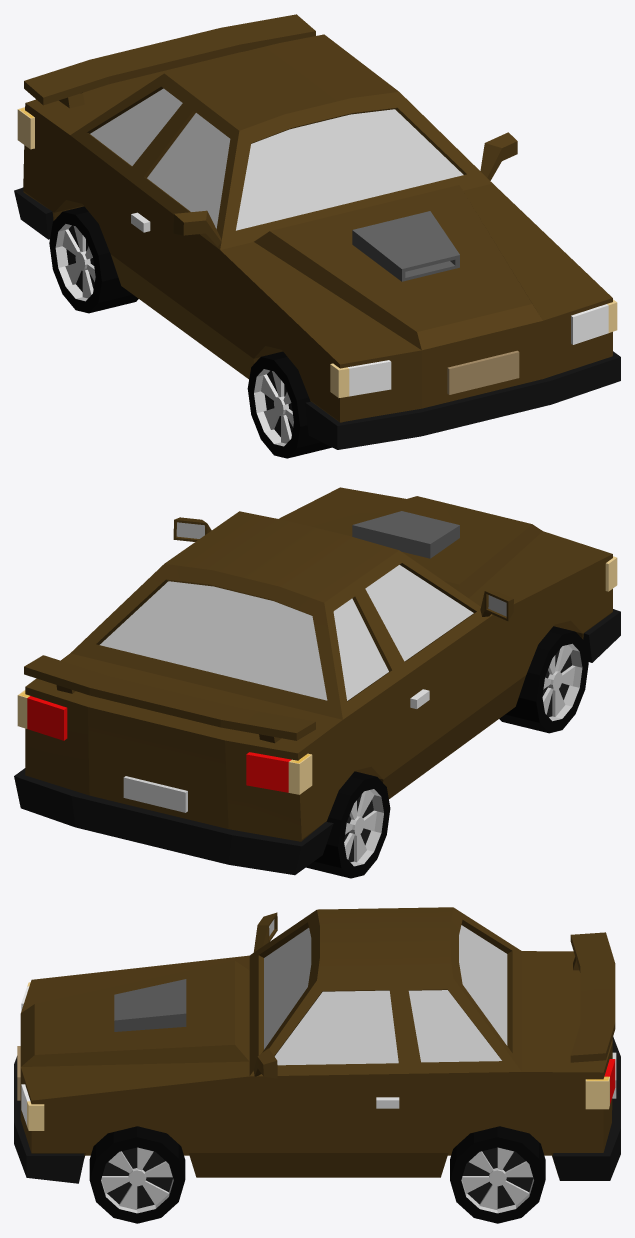
Rendered from Car-07-B.fbx.
3 views of the same model, one above another, from view 1: azimuth 30°, elevation 25°; view 2: azimuth 150°, elevation 25°; view 3: azimuth 270°, elevation 25° (orthographic). The views are drawn at different scales.
Parts seen in each view (by area): view 1: Car-07, BR, FR, Head-Light, Light-Right; view 2: Car-07, FR, BR, Break-Light, Light-Right; view 3: Car-07, FL, BL, Light-Left.
Boxes of the visible parts, x1,y1,x2,y2 form: Car-07: (14,14,620,449); BR: (49,206,138,313); FR: (247,351,331,458); Head-Light: (348,304,608,396); Light-Right: (17,107,349,397); Car-07: (14,487,620,875); FR: (499,626,588,733); BR: (306,771,390,878); Break-Light: (27,696,291,792); Light-Right: (288,556,617,794); Car-07: (14,907,620,1183); FL: (89,1126,185,1223); BL: (450,1126,545,1223); Light-Left: (27,1076,609,1130).
Size of the model in its own units: 2.47 by 1.7 by 4.24.
